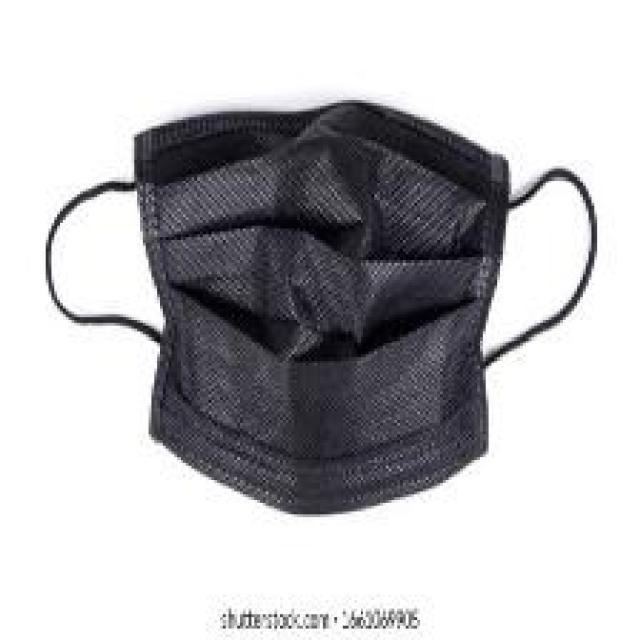Mask: (46, 110, 601, 509)
